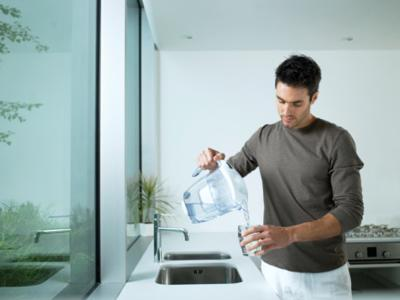person: (196, 57, 364, 300)
